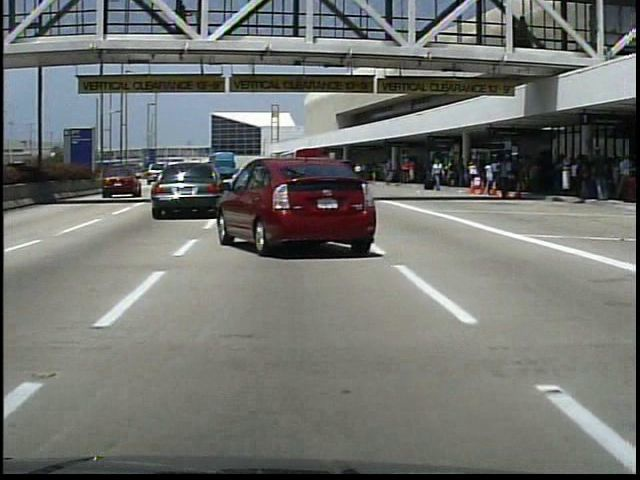person: (496, 153, 518, 204), (431, 158, 448, 193), (172, 3, 189, 36), (406, 159, 417, 185)
